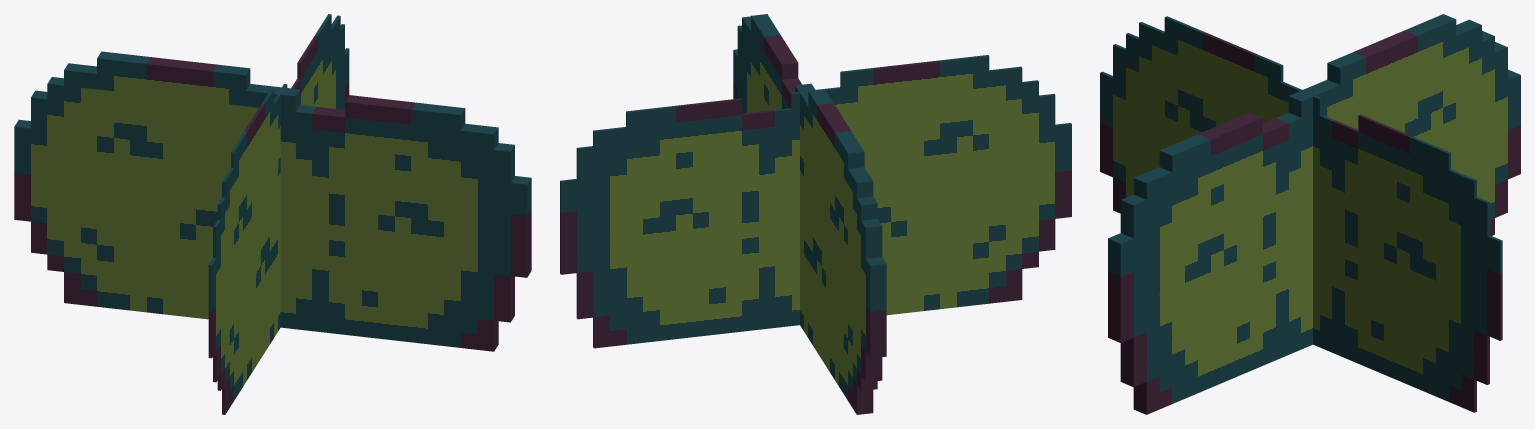
The model's file is Bush.fbx.
3 views of the same model, side by side, from view 1: azimuth 30°, elevation 25°; view 2: azimuth 150°, elevation 25°; view 3: azimuth 270°, elevation 25° (orthographic). The views are drawn at different scales.
Visible parts, largest first — view 1: Cube.001, Cube; view 2: Cube, Cube.001; view 3: Cube.001, Cube.
Part boxes in pixels (box(x1,y1,x2,y2)): Cube.001: box(14, 51, 531, 351); Cube: box(208, 14, 349, 414); Cube: box(560, 55, 1071, 348); Cube.001: box(733, 14, 886, 414); Cube.001: box(1108, 14, 1520, 414); Cube: box(1100, 16, 1502, 412).
Bounding box in the file's own units: 226 × 231 × 160.
Materials: 2 (2 with a texture image).
